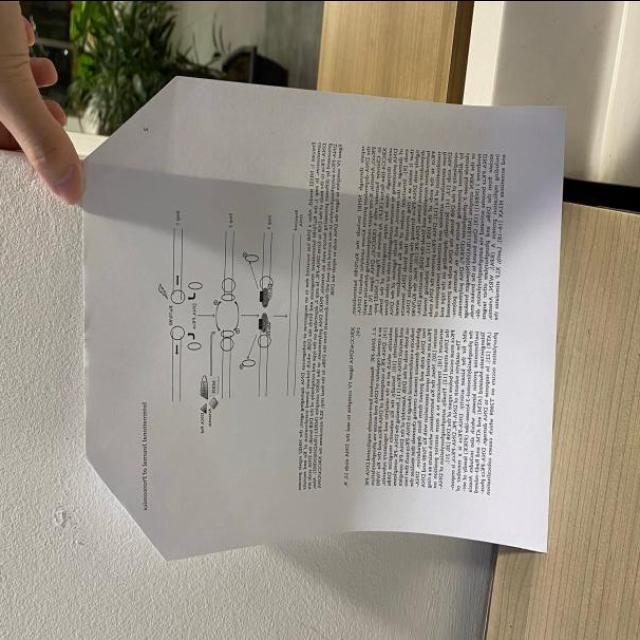kertas: (68, 73, 567, 574)
